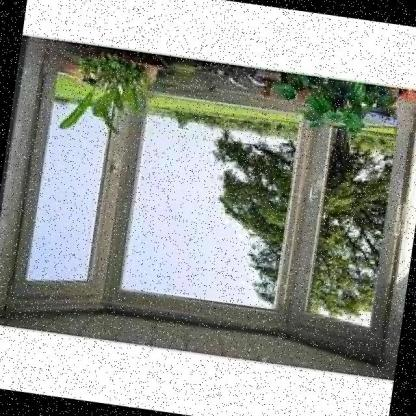Window: (2, 65, 416, 369)
